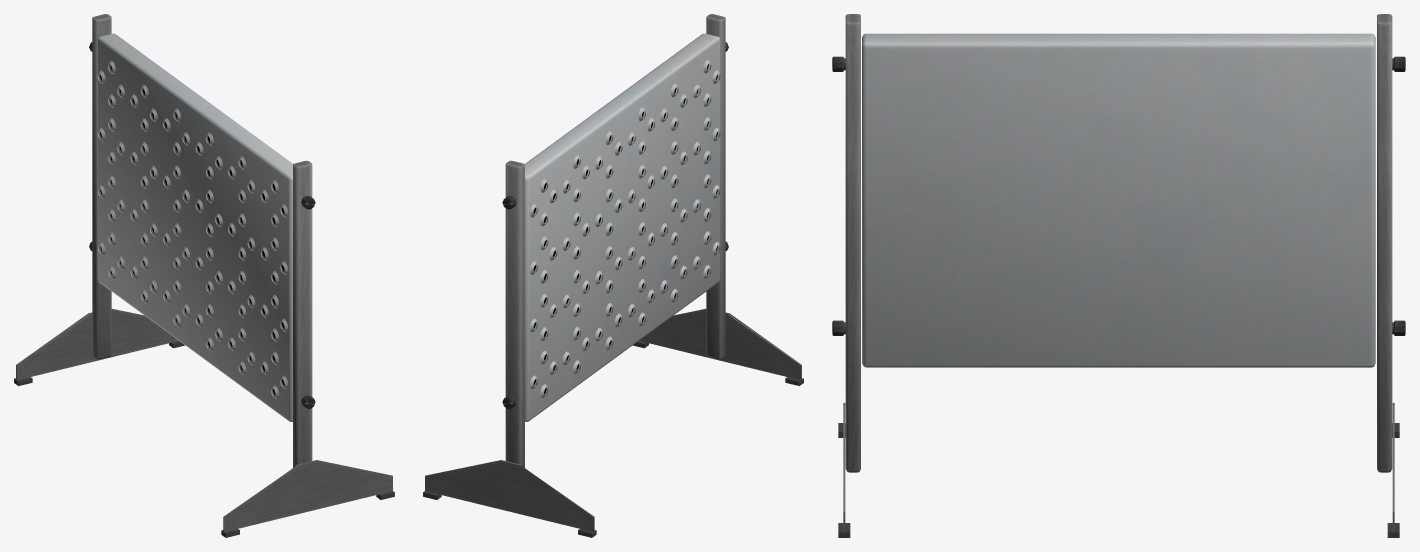
File: Electro07.FBX
3 views of the same model, side by side, from view 1: azimuth 30°, elevation 25°; view 2: azimuth 150°, elevation 25°; view 3: azimuth 270°, elevation 25° (orthographic). The views are drawn at different scales.
Parts seen in each view (by area): view 1: ChamferBox001; view 2: ChamferBox001; view 3: ChamferBox001.
Boxes of the visible parts, bbox=[...] form: ChamferBox001: bbox=[14, 14, 394, 537]; ChamferBox001: bbox=[423, 14, 803, 537]; ChamferBox001: bbox=[832, 14, 1405, 537].
Size of the model in its own units: 30.01 by 59.34 by 66.57.
